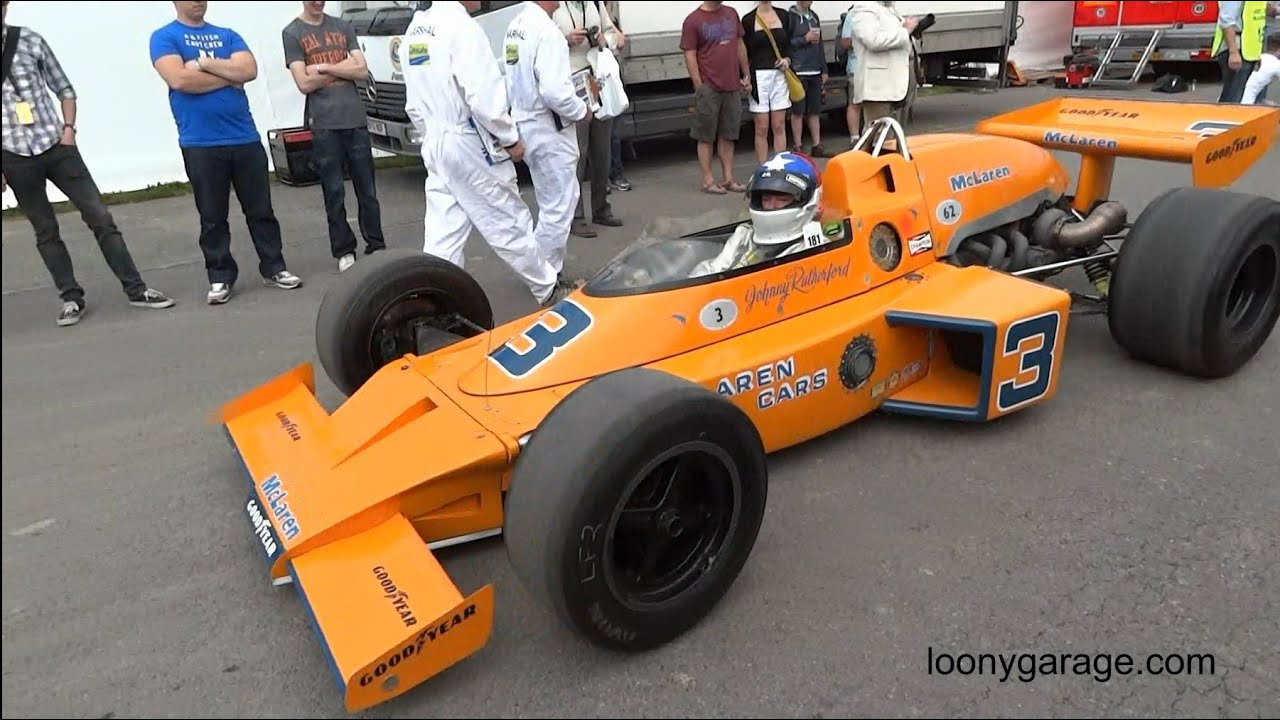f1_car: (201, 79, 1278, 720)
helmet: (745, 150, 825, 232)
